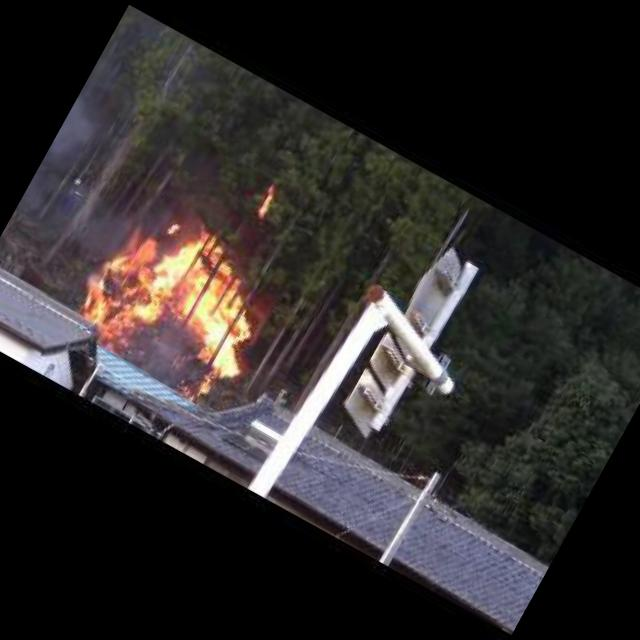fire: (61, 187, 296, 413), (256, 182, 282, 220)
